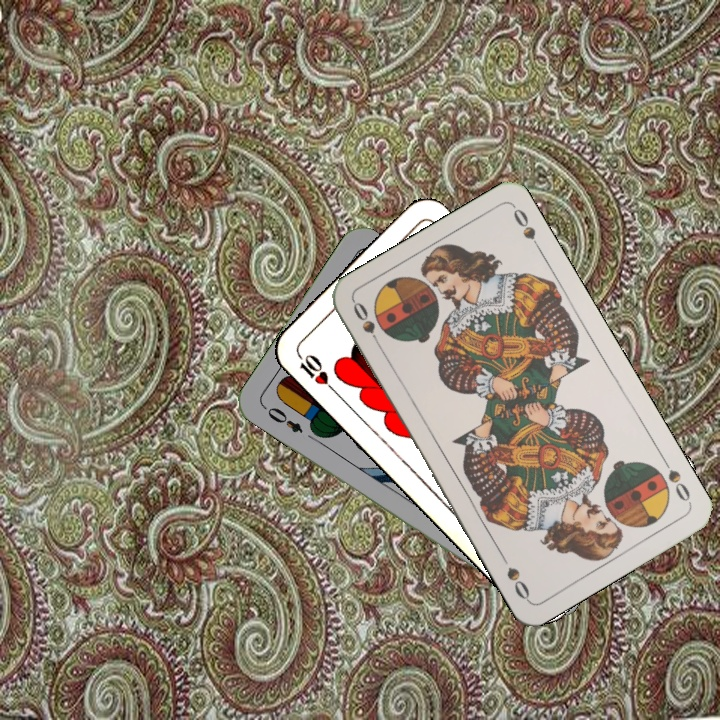EO: (259, 402, 306, 436)
H10: (293, 349, 339, 396)
SO: (348, 297, 385, 352), (657, 453, 694, 507)
